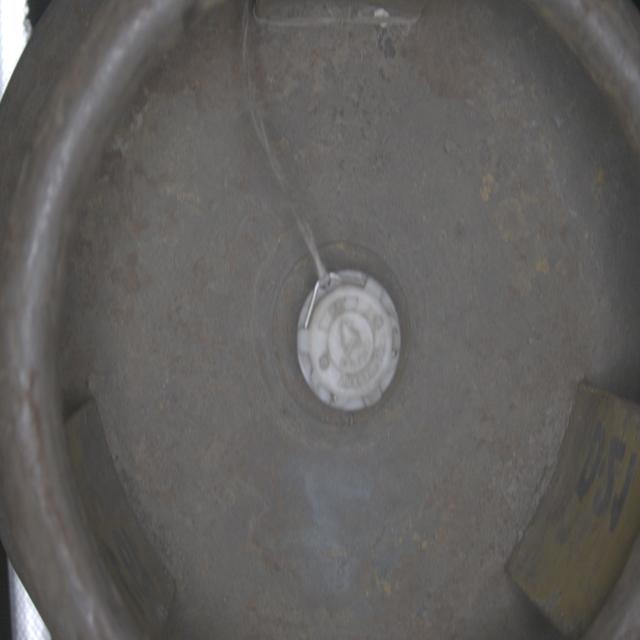Cap: (296, 269, 404, 413)
